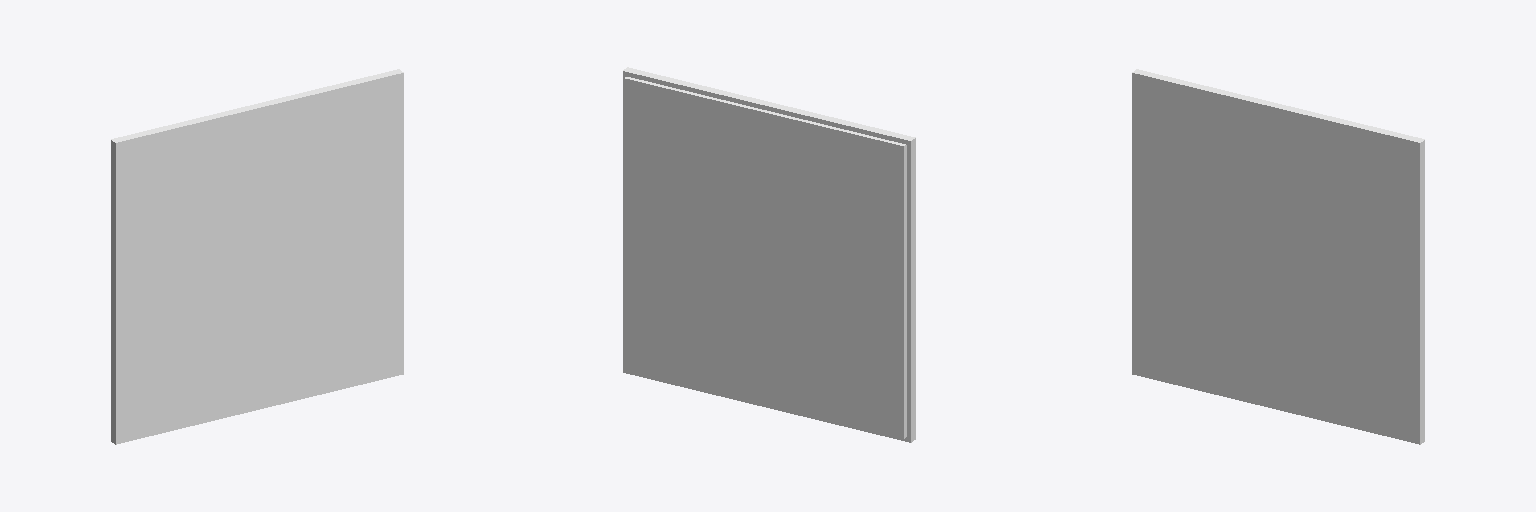
File: dom14.obj
3 views of the same model, side by side, from view 1: azimuth 30°, elevation 25°; view 2: azimuth 150°, elevation 25°; view 3: azimuth 330°, elevation 25° (orthographic).
Visible parts, largest first — view 1: dom-11; view 2: dom-11; view 3: dom-11.
Boxes of the visible parts, <box> form: dom-11: <box>111,69,403,444</box>; dom-11: <box>623,67,915,442</box>; dom-11: <box>1132,69,1424,444</box>.
Bounding box in the file's own units: 6.7 × 6.7 × 0.3.